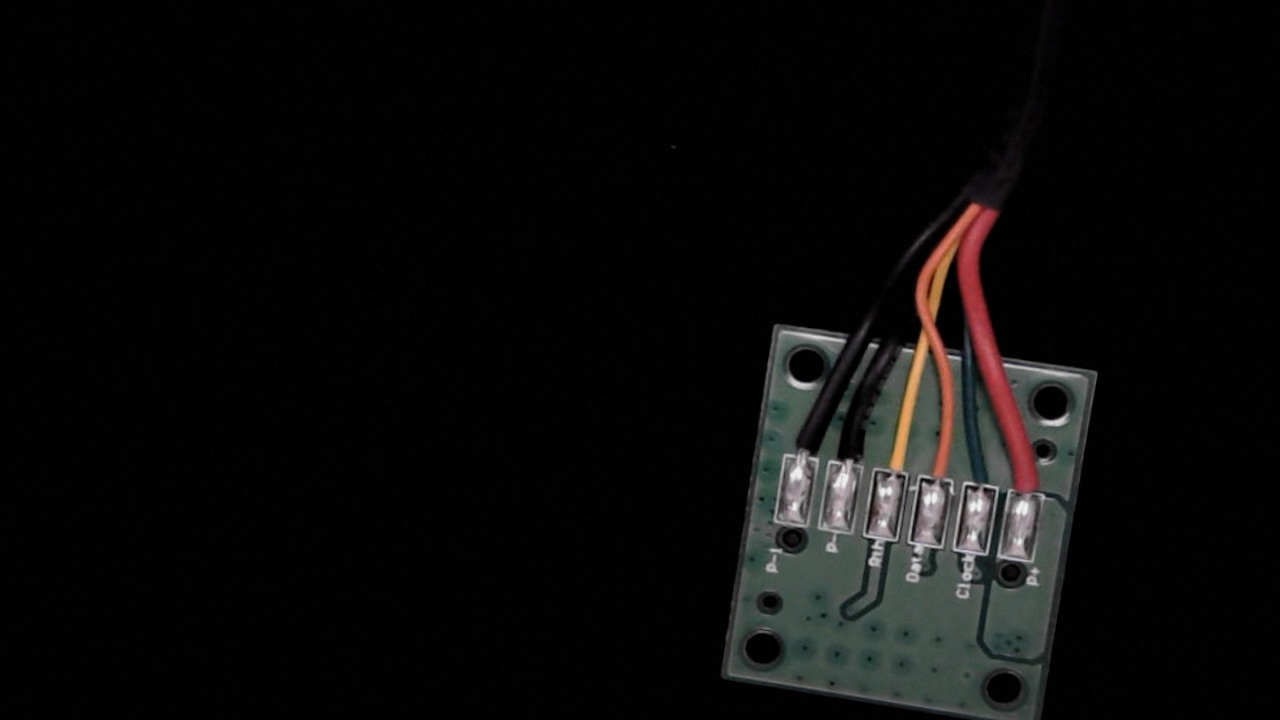Black: (827, 401, 877, 483)
Black1: (781, 399, 831, 476)
Green: (958, 435, 1007, 503)
Orange: (916, 426, 964, 498)
Red: (1003, 438, 1054, 513)
Yellow: (872, 414, 921, 491)
